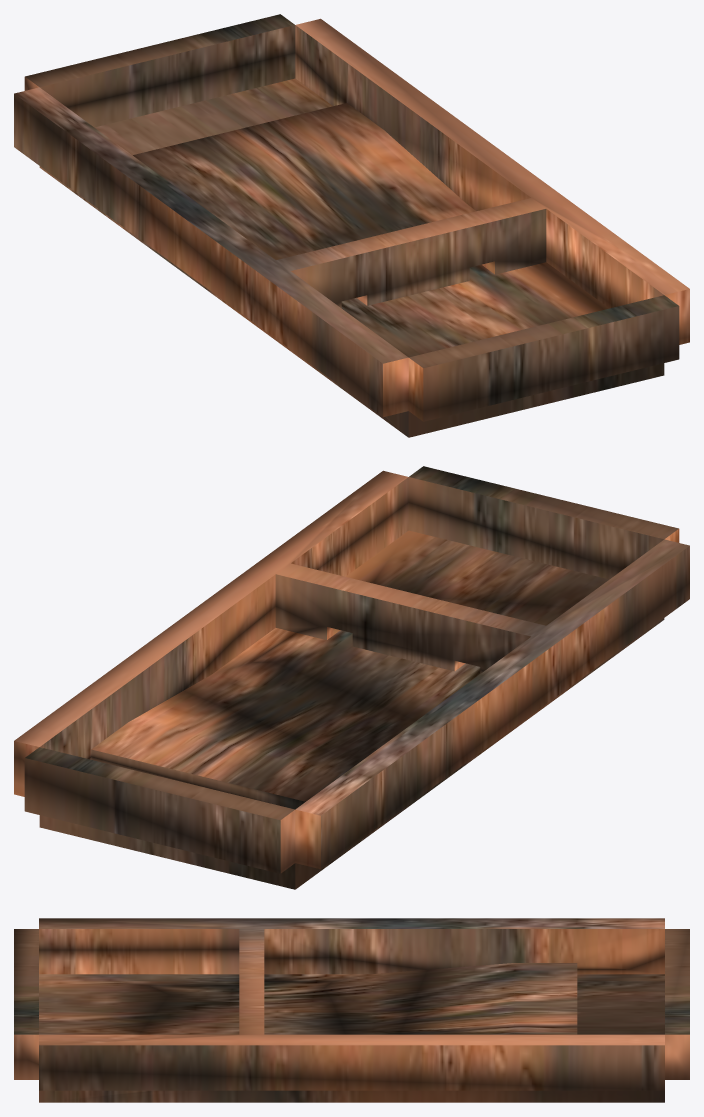
File: scenario_2.dae
3 views of the same model, one above another, from view 1: azimuth 30°, elevation 25°; view 2: azimuth 150°, elevation 25°; view 3: azimuth 270°, elevation 25° (orthographic). The views are drawn at different scales.
Visible parts, largest first — view 1: Scenario_1 v2; view 2: Scenario_1 v2; view 3: Scenario_1 v2.
Part boxes in pixels (<box>): Scenario_1 v2: <box>14,14,689,437</box>; Scenario_1 v2: <box>14,466,689,889</box>; Scenario_1 v2: <box>14,918,689,1102</box>.
Size of the model in its own units: 12 by 27 by 3.
Materials: 1 (1 with a texture image).
